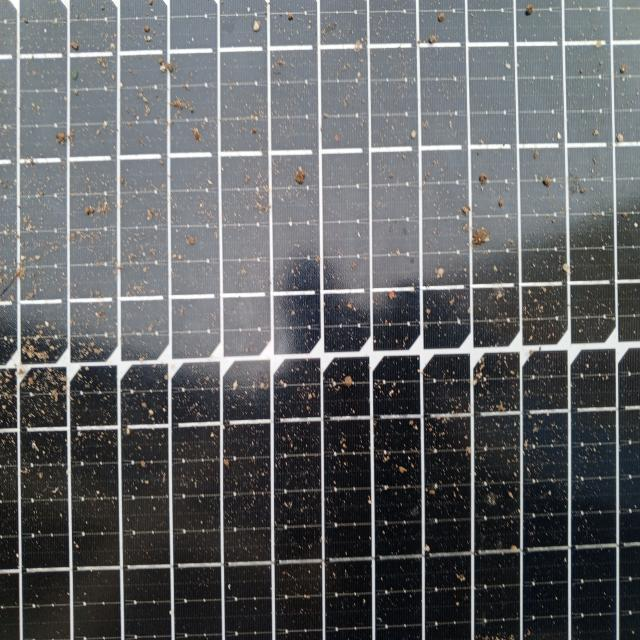Surface Contaminant: (3, 7, 630, 630)
